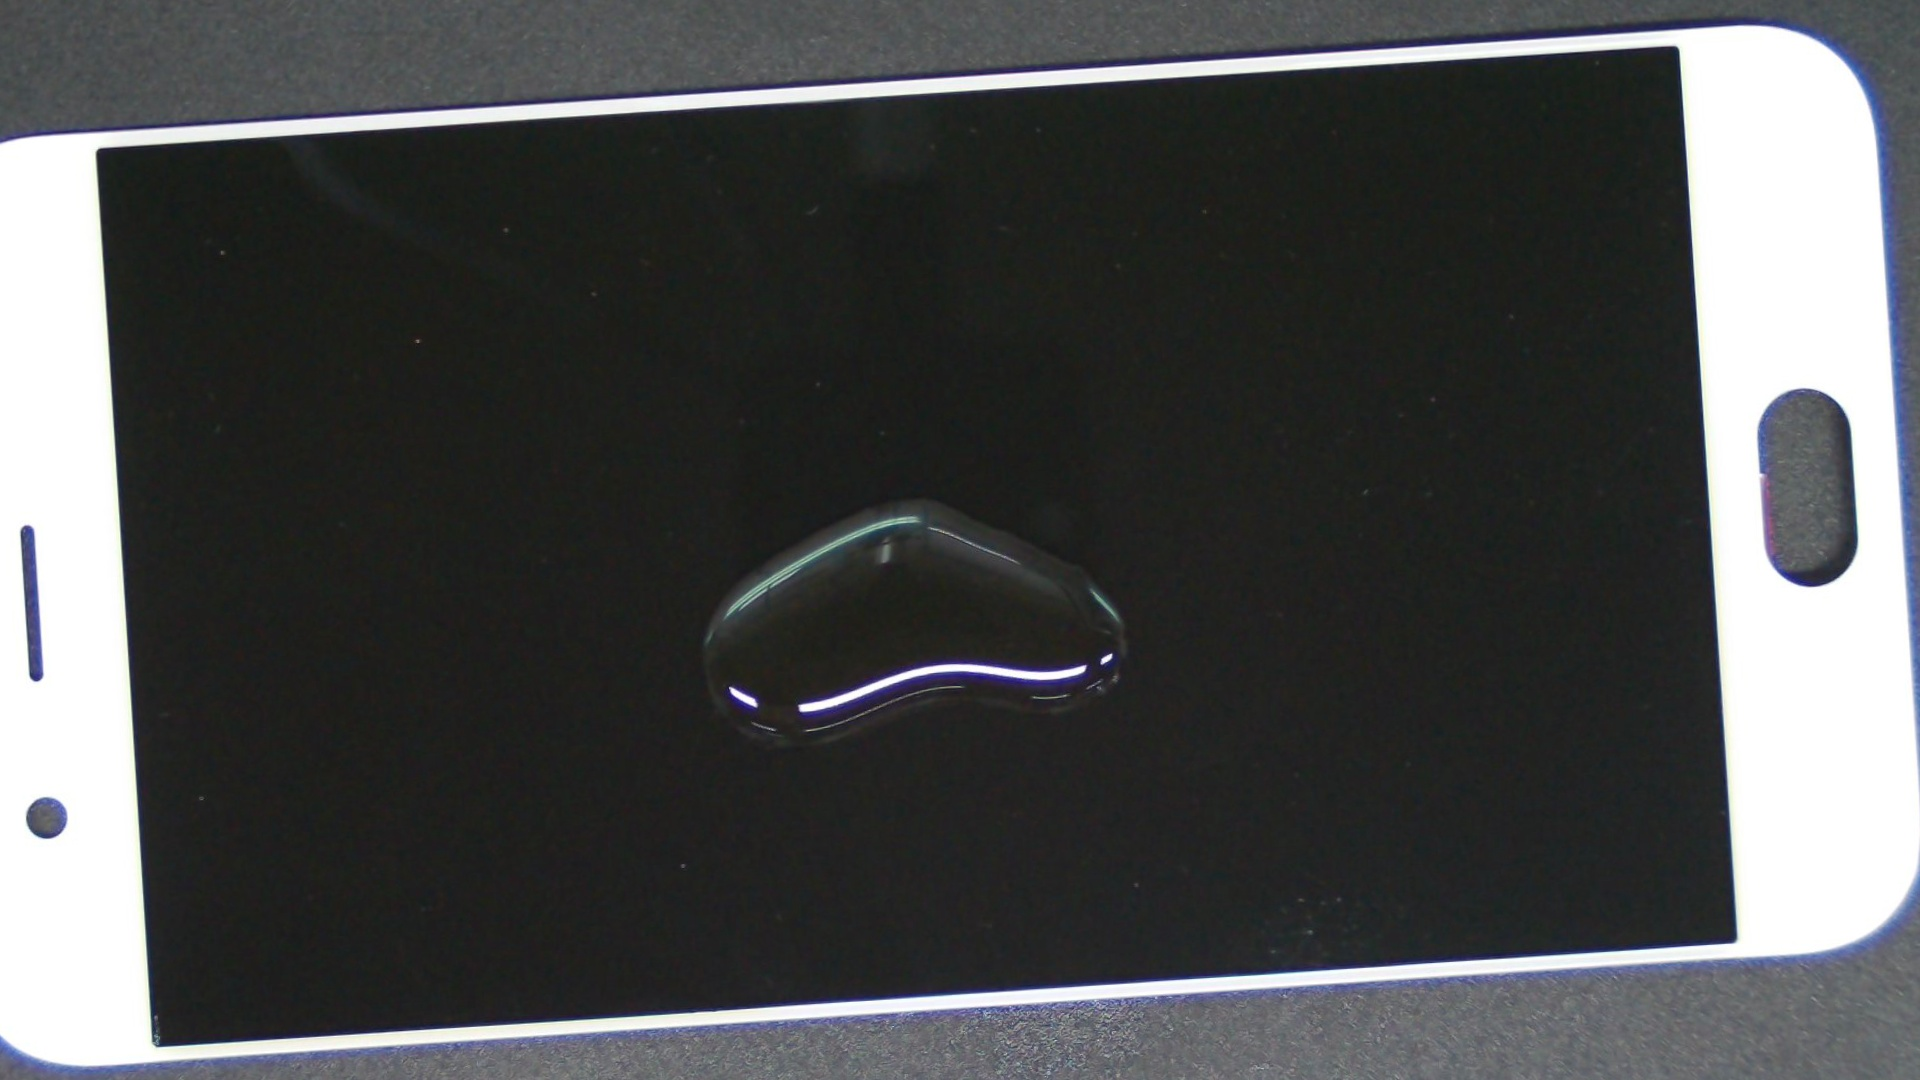oil: (380, 193, 1466, 804)
